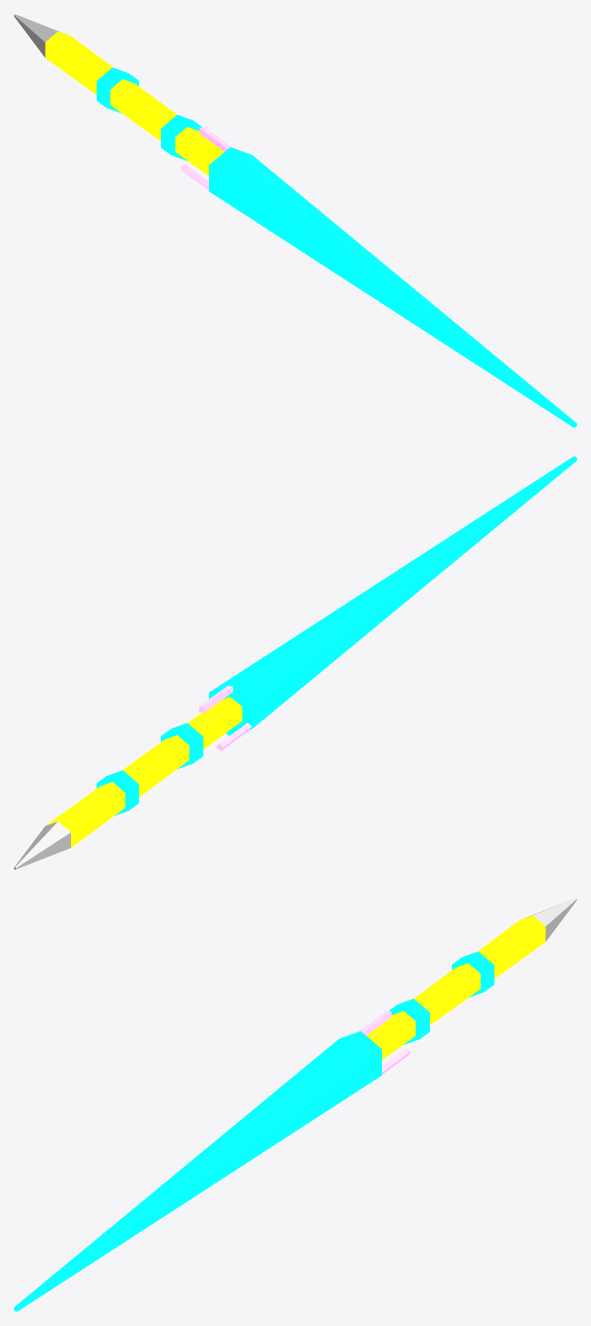
The model's file is Proj_RailSpike.fbx.
The picture shows the model from 3 angles, top to bottom: view 1: azimuth 30°, elevation 25°; view 2: azimuth 150°, elevation 25°; view 3: azimuth 330°, elevation 25°; orthographic projection.
Visible parts, largest first — view 1: Spike_Trail, Spike_Body, Spike_Band1, Spike_Band0, Spike_Tip; view 2: Spike_Trail, Spike_Body, Spike_Tip, Spike_Band0, Spike_Band1; view 3: Spike_Trail, Spike_Body, Spike_Band1, Spike_Band0, Spike_Tip.
Part boxes in pixels (box(x1,y1,x2,y2)): Spike_Trail: box(209, 147, 576, 427); Spike_Body: box(45, 31, 224, 175); Spike_Band1: box(96, 67, 138, 113); Spike_Band0: box(161, 114, 201, 160); Spike_Tip: box(14, 14, 66, 57); Spike_Trail: box(209, 456, 576, 735); Spike_Body: box(46, 696, 242, 847); Spike_Tip: box(14, 821, 70, 869); Spike_Band0: box(161, 723, 203, 768); Spike_Band1: box(96, 770, 138, 815); Spike_Trail: box(14, 1031, 381, 1311); Spike_Body: box(366, 915, 545, 1059); Spike_Band1: box(452, 951, 494, 997); Spike_Band0: box(389, 998, 429, 1044); Spike_Tip: box(524, 898, 576, 941).
Size of the model in its own units: 0.0349 by 0.04 by 0.78.
